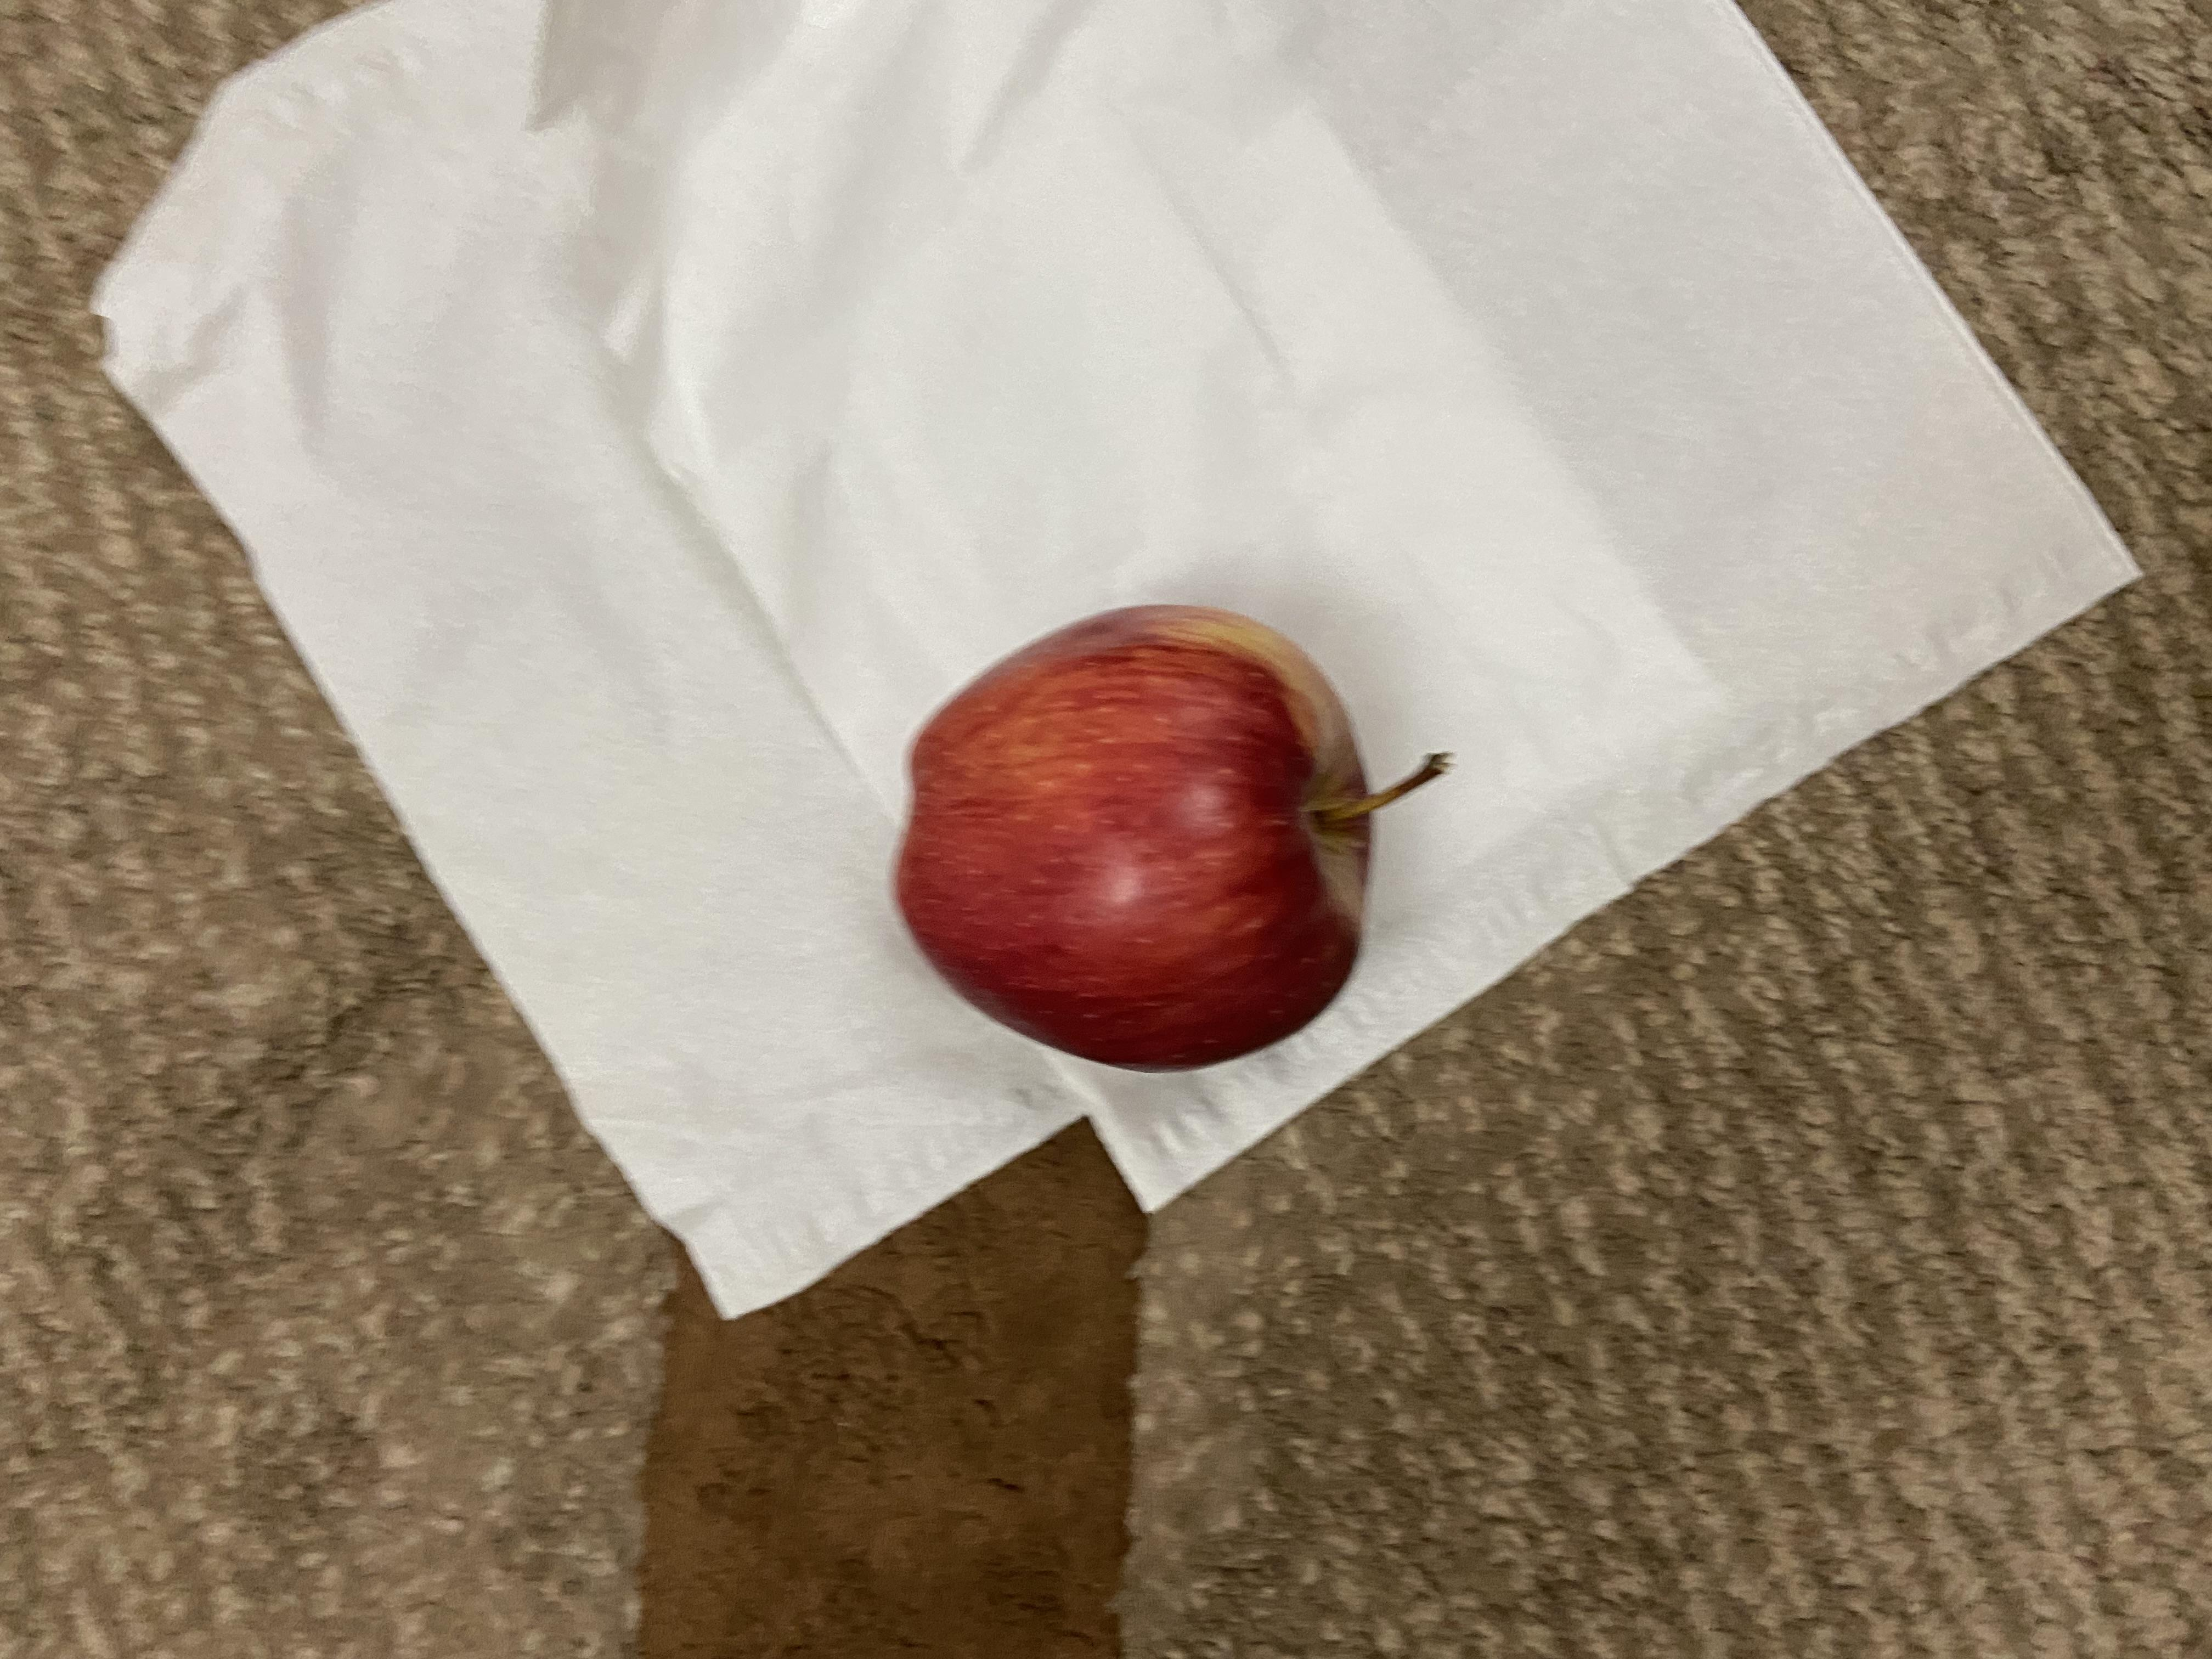Apple: (754, 570, 1339, 1065)
